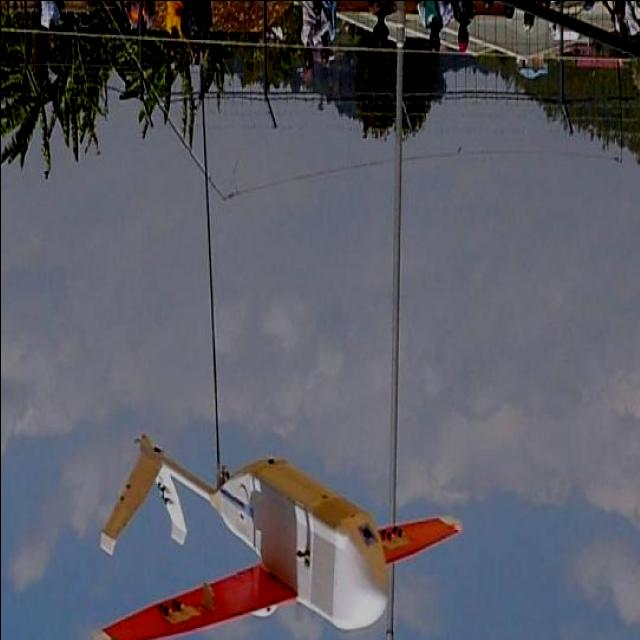plane: (87, 423, 468, 640)
